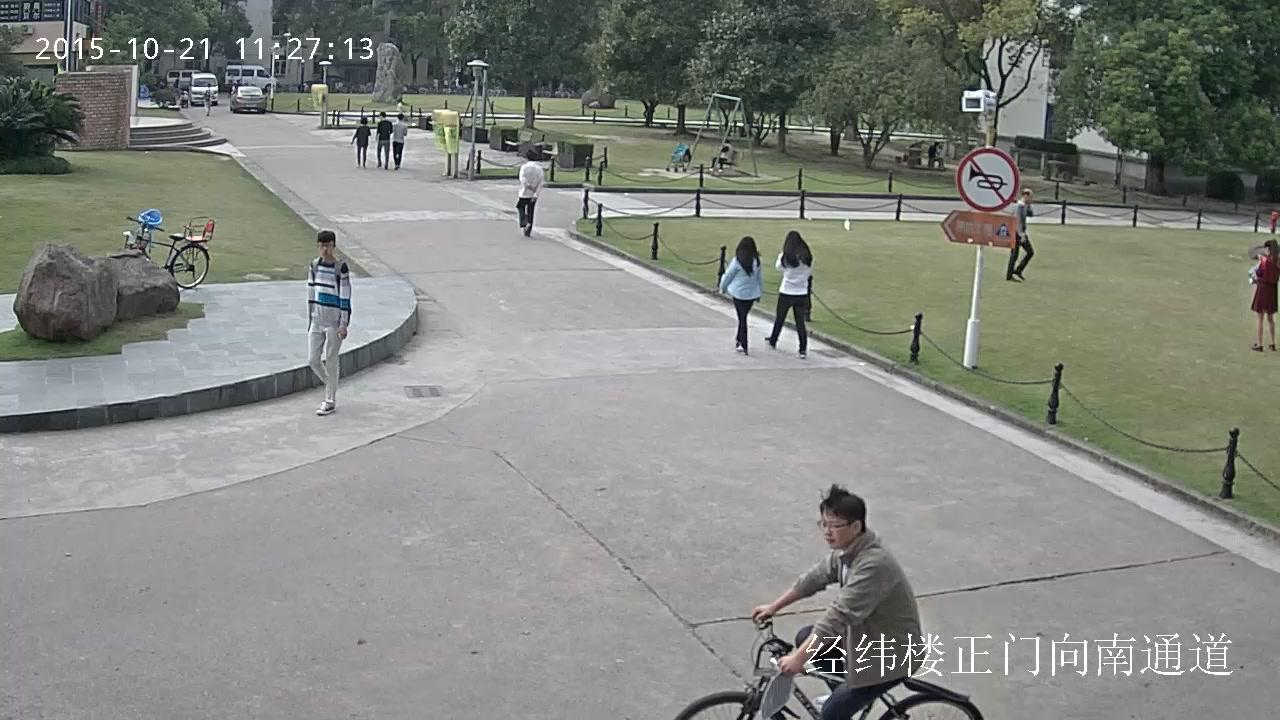face: (822, 510, 853, 546), (318, 241, 334, 257), (1028, 192, 1032, 201), (1264, 246, 1268, 255)
